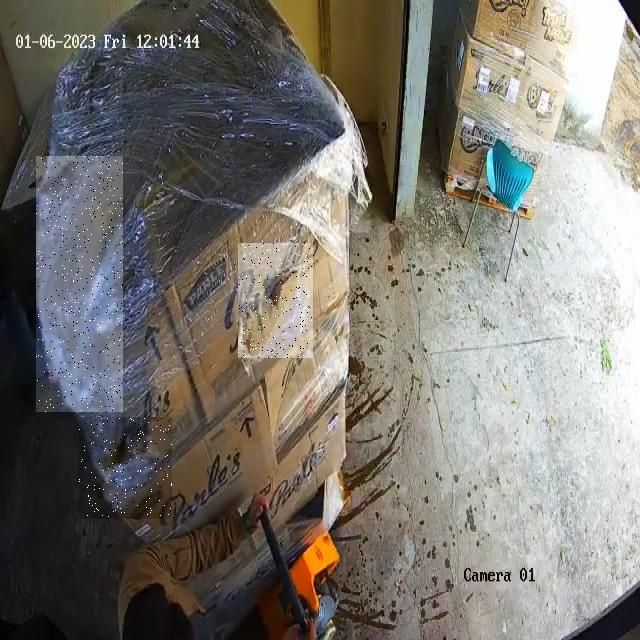leakage: (80, 417, 172, 517), (238, 244, 312, 358)
squeeze: (36, 156, 123, 412)
